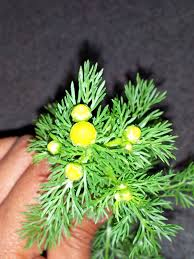pineple: (45, 97, 189, 213)
